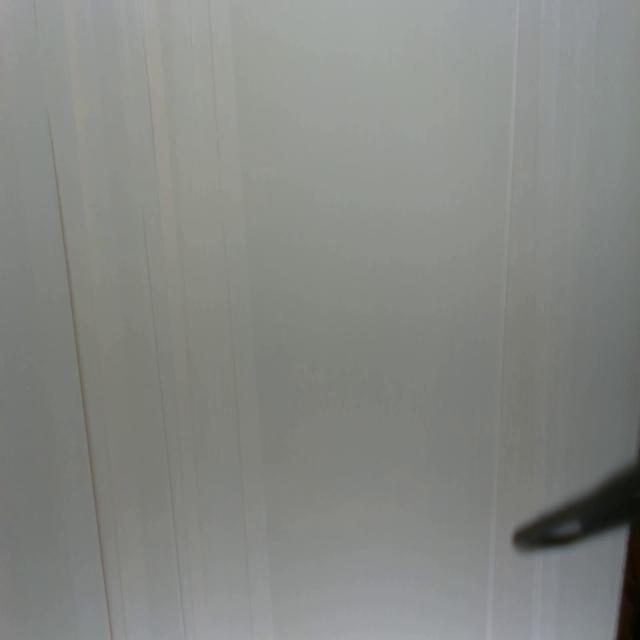crease: (33, 0, 113, 640), (207, 0, 255, 636), (484, 0, 519, 639), (139, 210, 188, 639), (136, 1, 167, 244), (530, 0, 542, 198), (112, 513, 129, 639)
